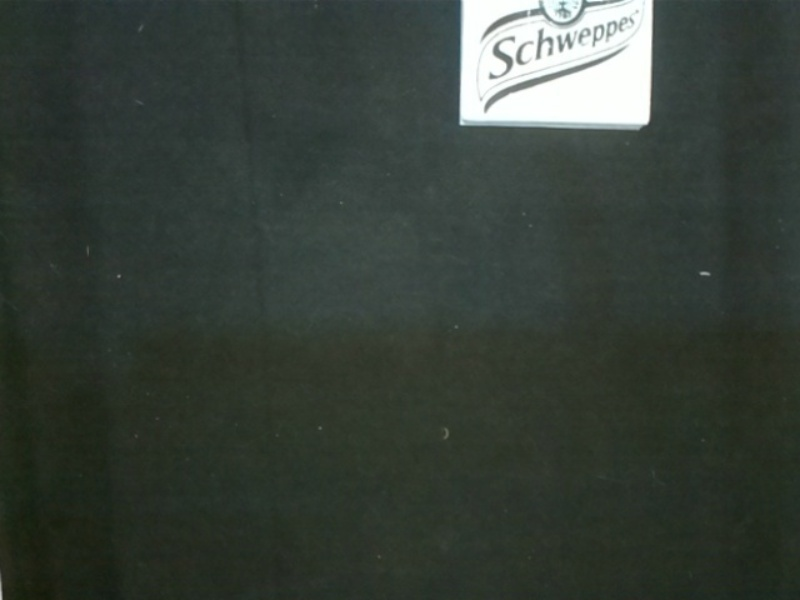schweppes: (456, 1, 655, 125)
